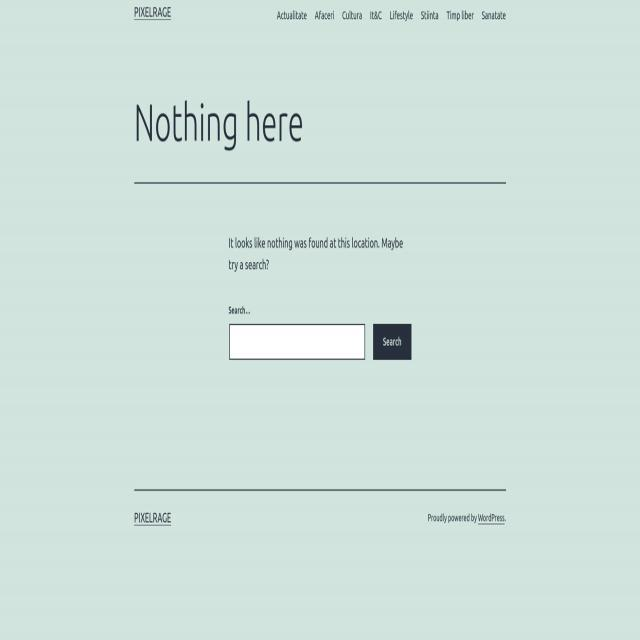button: (373, 324, 412, 360), (273, 2, 311, 28), (442, 2, 478, 28), (478, 2, 510, 28), (386, 2, 416, 28), (338, 2, 366, 28), (311, 2, 338, 28), (417, 2, 443, 28), (366, 2, 386, 28)
field: (229, 324, 365, 360)
